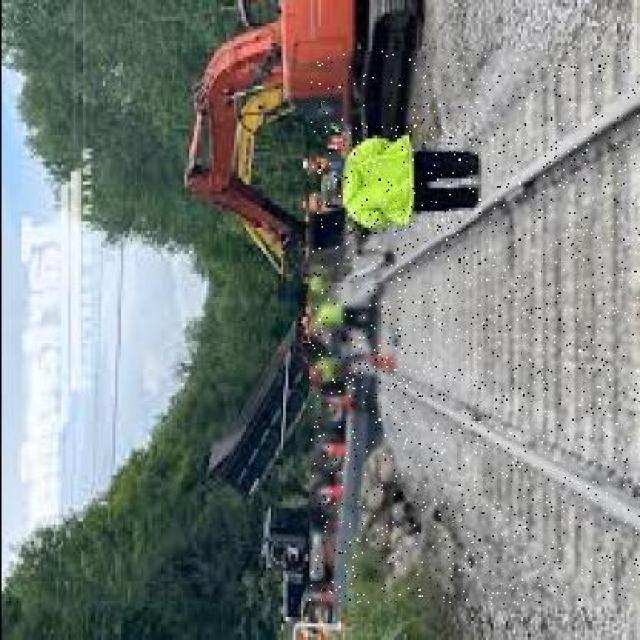danger: (317, 124, 480, 236), (310, 284, 404, 396)
rail: (308, 52, 638, 605)
